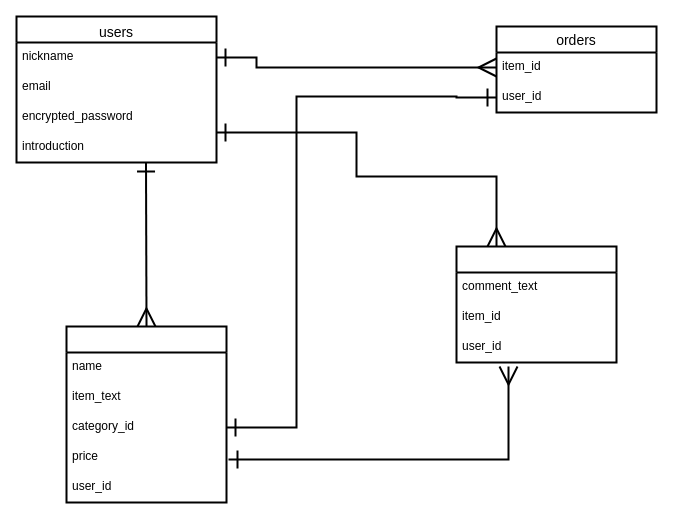
Image size: 673x519. Some labels were removed from this diagram. The box of each missing label's shape, as (x1, y1, x2, y2) in pixels:
comments: (455, 245, 617, 363)
items: (65, 325, 227, 503)
